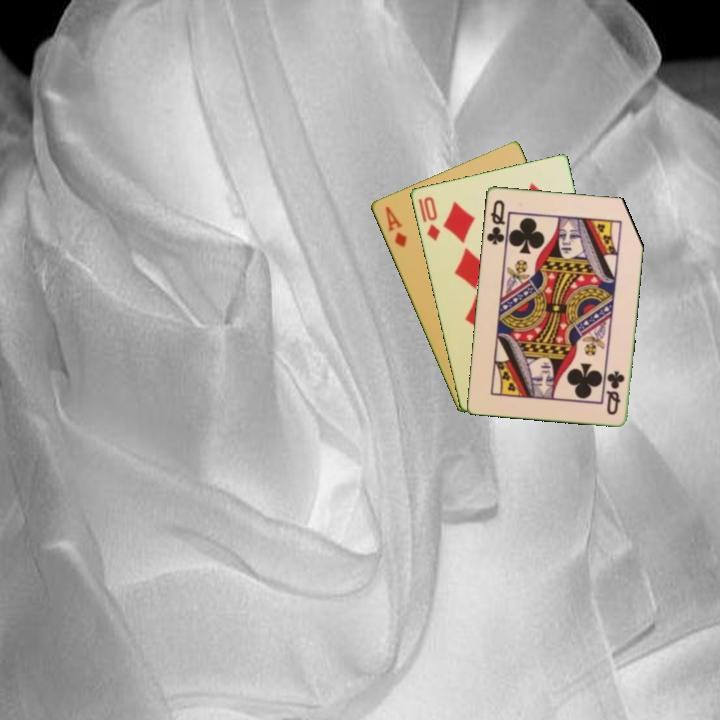10d: (420, 193, 443, 243)
Ad: (381, 203, 409, 251)
Qc: (483, 196, 508, 247), (603, 367, 627, 418)
